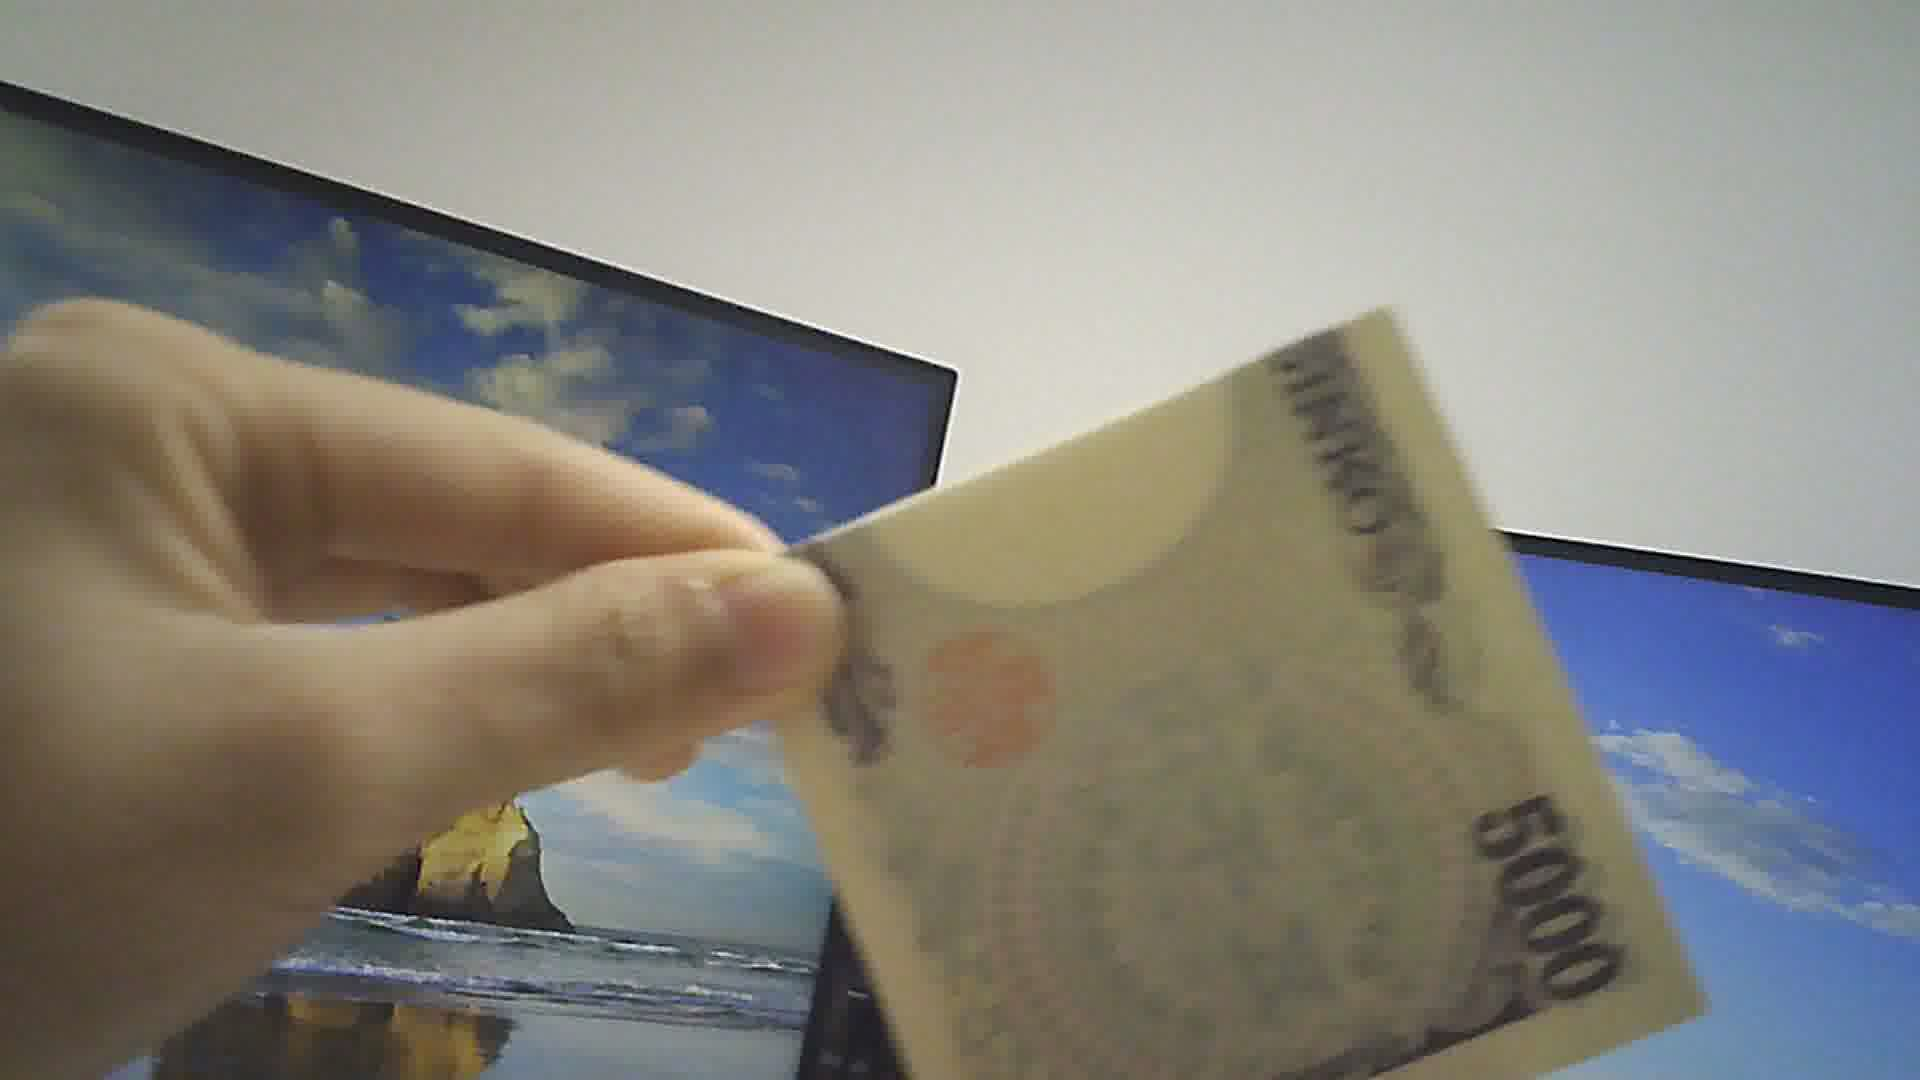5,000 Yen: (746, 295, 1720, 1077)
